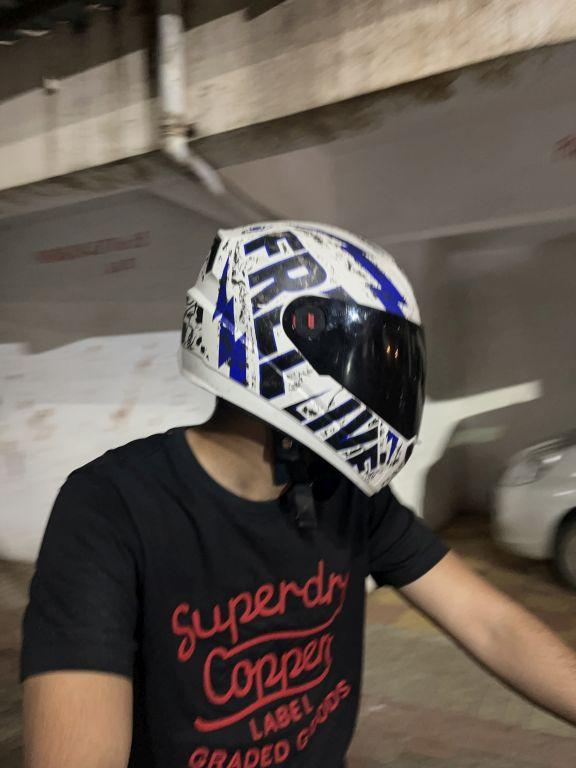helmet: (164, 195, 432, 519)
